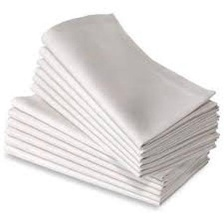tissue: (26, 10, 223, 181), (0, 92, 211, 209)
